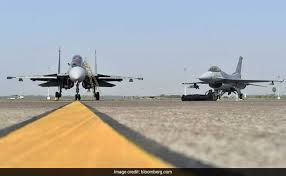fighter: (6, 44, 148, 102), (180, 53, 284, 101)
